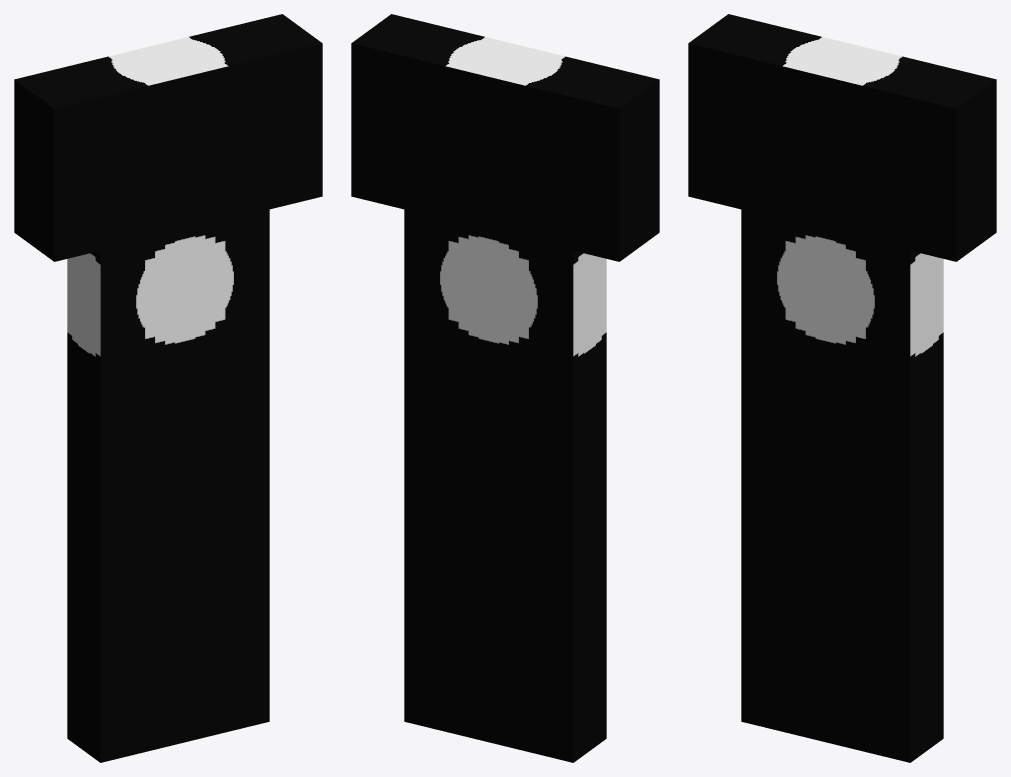
The model's file is TShapeMonolith.fbx.
The picture shows the model from 3 angles, left to right: view 1: azimuth 30°, elevation 25°; view 2: azimuth 150°, elevation 25°; view 3: azimuth 330°, elevation 25°; orthographic projection.
Parts seen in each view (by area): view 1: TShapeMonolith; view 2: TShapeMonolith; view 3: TShapeMonolith.
Boxes of the visible parts, left/top/right/bottom form: TShapeMonolith: left=14, top=14, right=322, bottom=762; TShapeMonolith: left=351, top=14, right=659, bottom=762; TShapeMonolith: left=688, top=14, right=996, bottom=762.
Size of the model in its own units: 3.17 by 7.56 by 0.8201.
